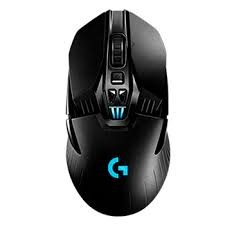mouse: (71, 3, 174, 213)
